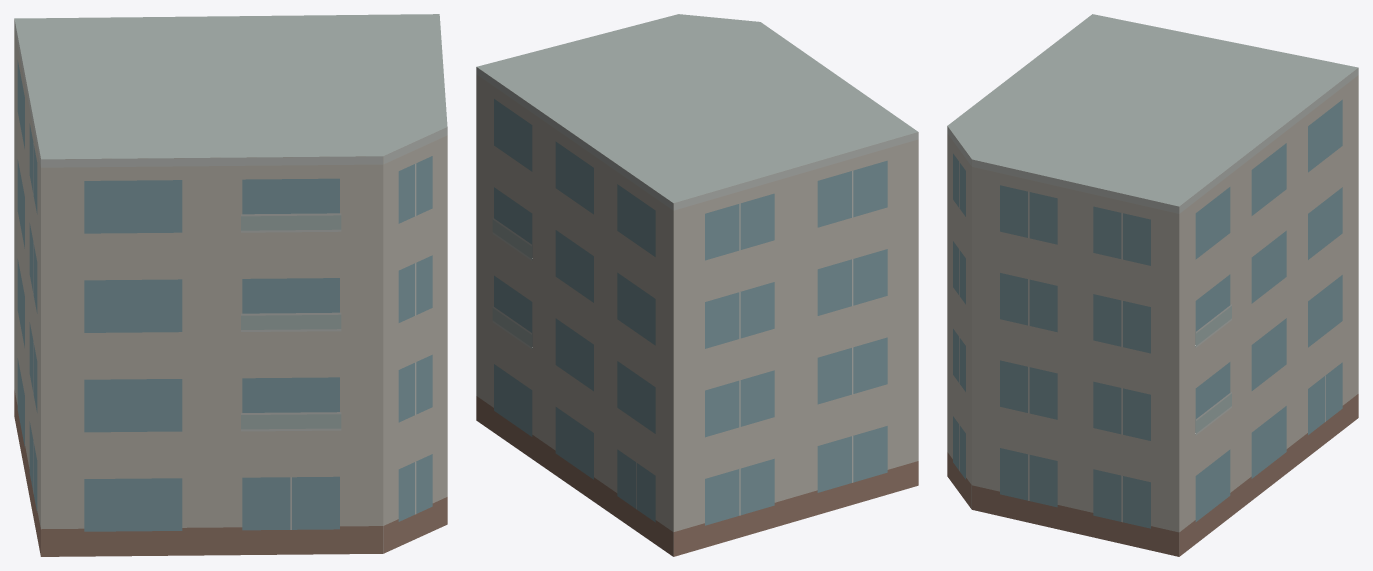
File: survey-upis-32892851.glb
The picture shows the model from 3 angles, left to right: view 1: azimuth 30°, elevation 25°; view 2: azimuth 150°, elevation 25°; view 3: azimuth 270°, elevation 25°; orthographic projection. The views are drawn at different scales.
Visible parts, largest first — view 1: survey-upis-32892851.tmp; view 2: survey-upis-32892851.tmp; view 3: survey-upis-32892851.tmp.
Part boxes in pixels (x1,y1,x2,y2): survey-upis-32892851.tmp: (14, 14, 447, 556); survey-upis-32892851.tmp: (476, 14, 918, 556); survey-upis-32892851.tmp: (947, 14, 1358, 556).
Size of the model in its own units: 13.69 by 11.6 by 12.35.
